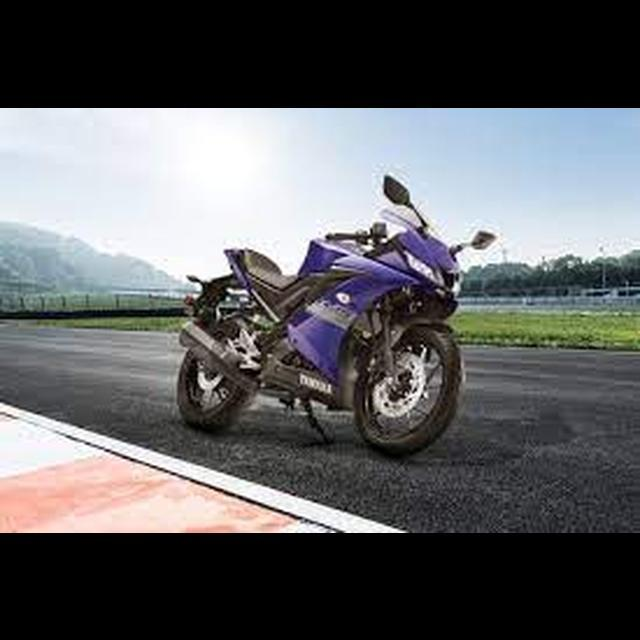motorcycle: (175, 171, 500, 462)
